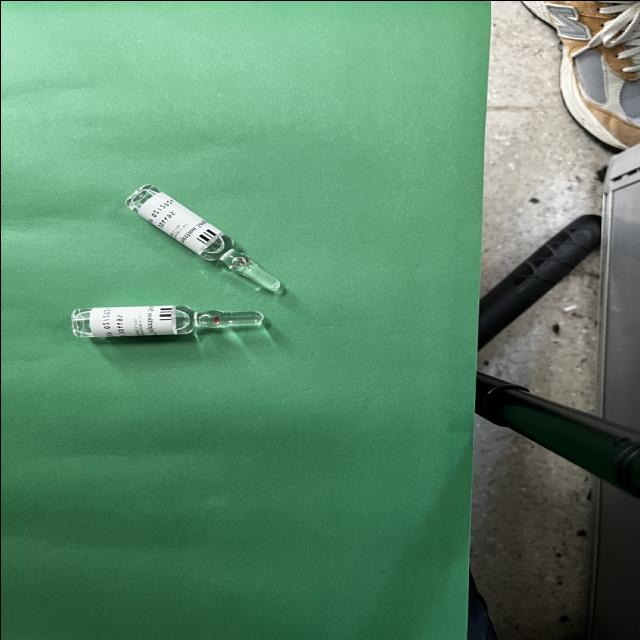Ampoules: (124, 184, 281, 291), (70, 304, 263, 338)
